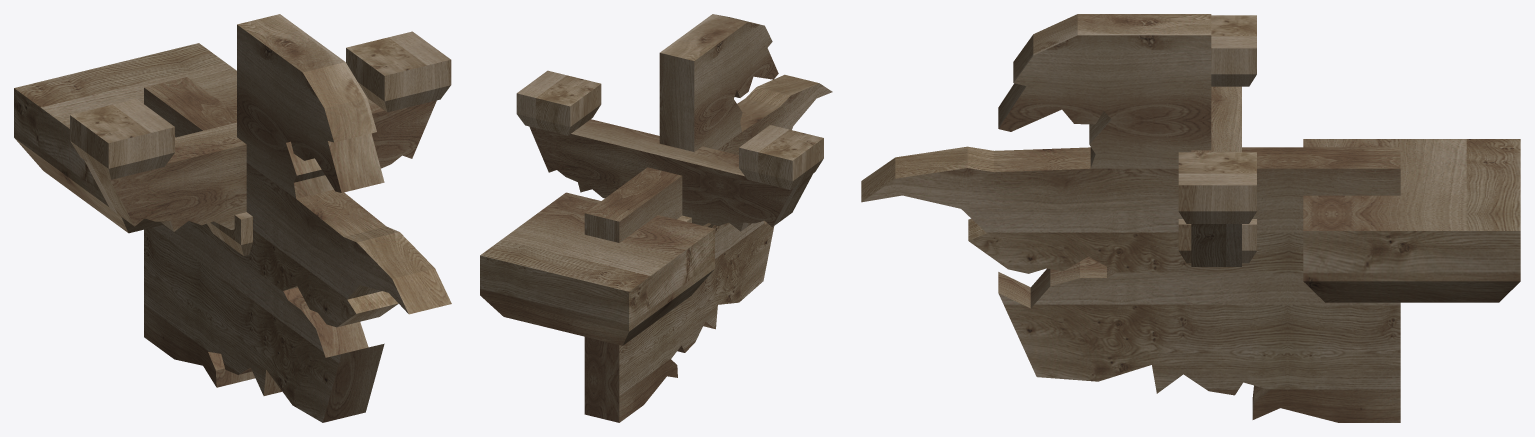
The model's file is SM_Sun_Bul_Gongpo_A.fbx.
The picture shows the model from 3 angles, left to right: view 1: azimuth 30°, elevation 25°; view 2: azimuth 150°, elevation 25°; view 3: azimuth 270°, elevation 25°; orthographic projection. The views are drawn at different scales.
Visible parts, largest first — view 1: SM_Sun_Bul_Gongpo_A; view 2: SM_Sun_Bul_Gongpo_A; view 3: SM_Sun_Bul_Gongpo_A.
Part boxes in pixels (<box>): SM_Sun_Bul_Gongpo_A: <box>14,14,451,422</box>; SM_Sun_Bul_Gongpo_A: <box>480,14,832,422</box>; SM_Sun_Bul_Gongpo_A: <box>861,14,1520,422</box>.
Size of the model in its own units: 79.68 by 84.6 by 130.
